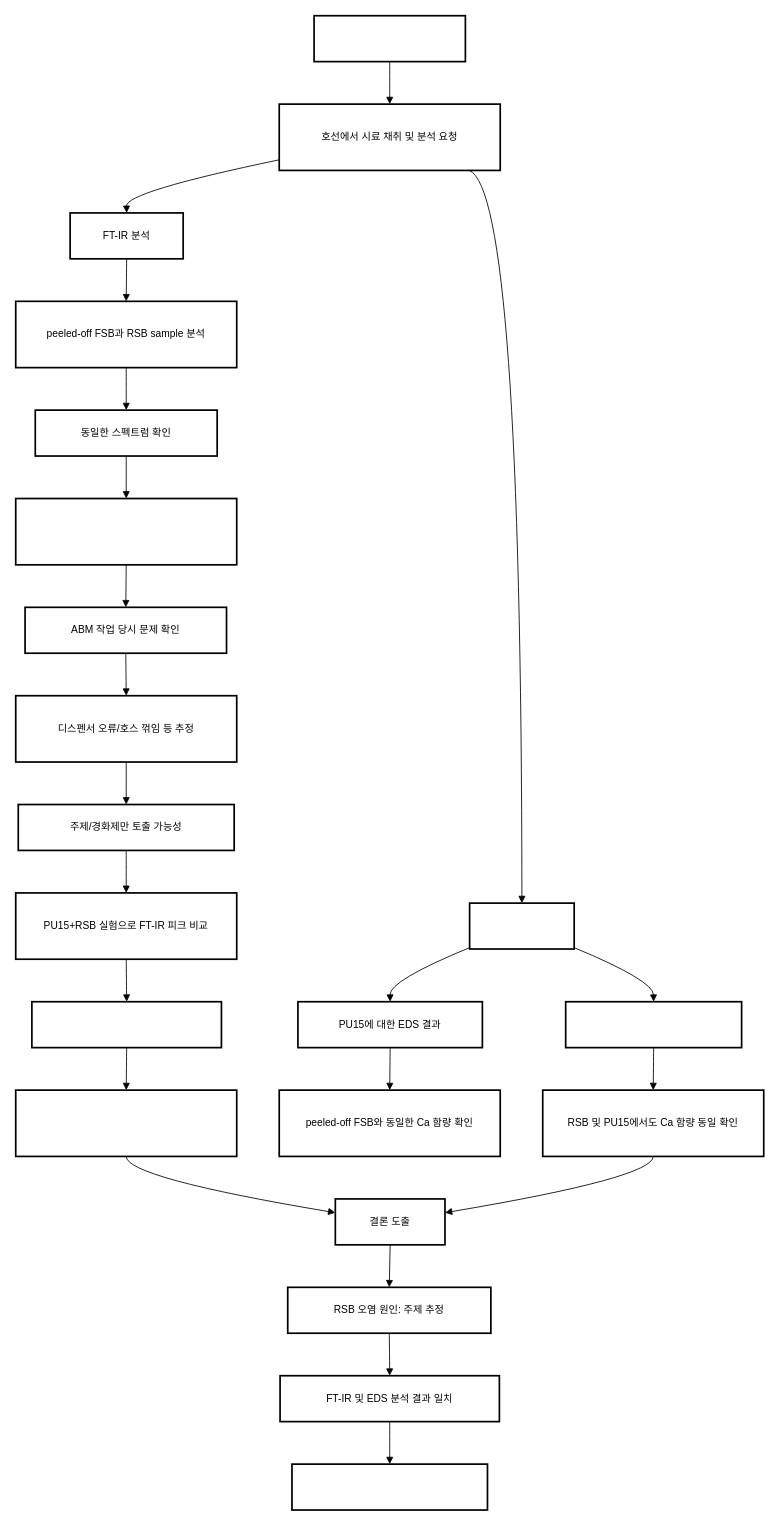
Some shapes in this 779 by 1525 pixel diagram are drawn without their labels. Each missing label, with the centre of its shape:
"De-bonding 발생" belongs at point 389,38.
"EDS 분석" belongs at point 521,925.
"PU15 피크 유사성 확인" belongs at point 126,1024.
"RSB에 대한 EDS 결과" belongs at point 653,1024.
"RSB의 경우 주제로 인한 피크 강하게 검출" belongs at point 125,1123.
"미상의 오염원이 동일하게 존재 추정" belongs at point 125,531.
"오염원은 주제임을 확인" belongs at point 389,1486.
